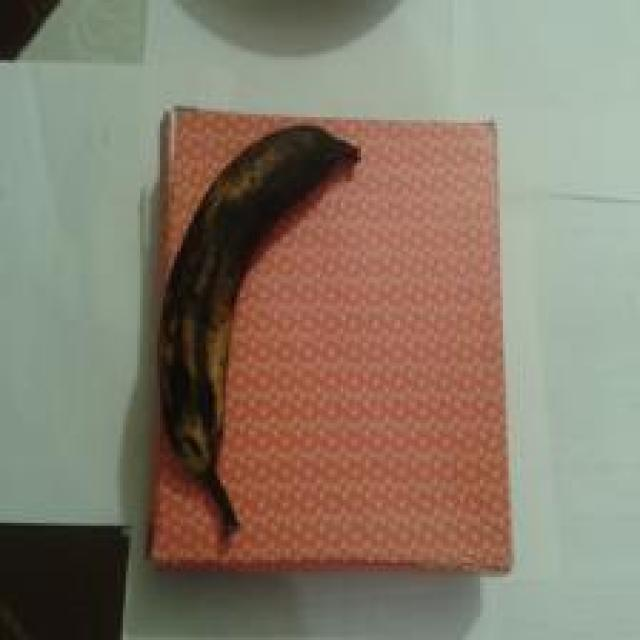Rotten_Banana: (143, 80, 373, 534)
